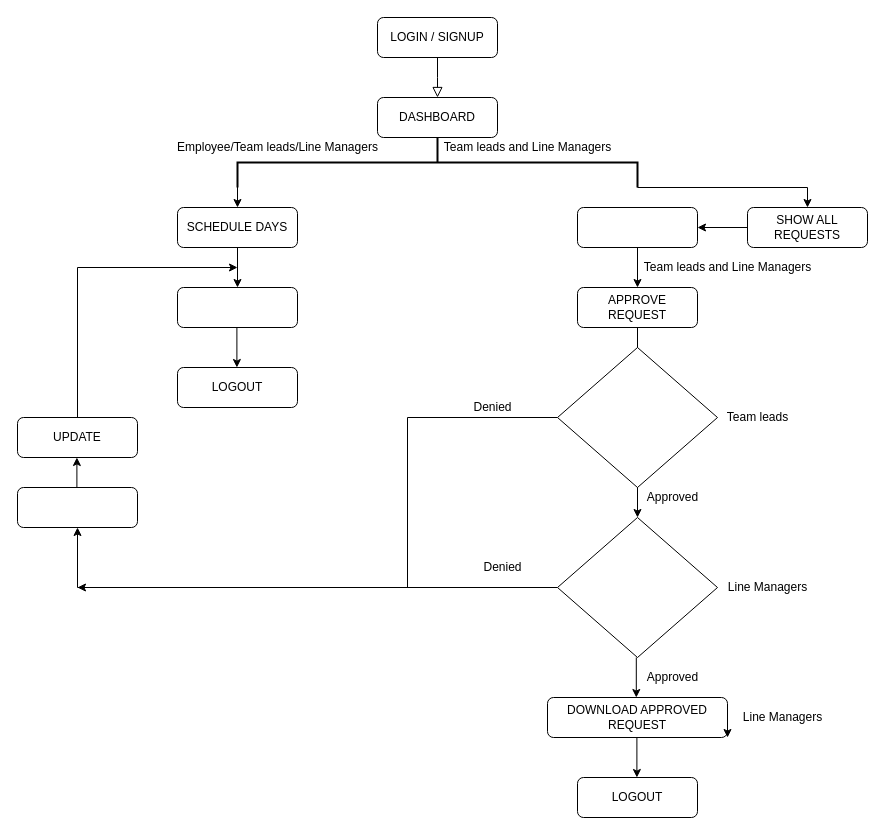
Image size: 885x835. Some labels were removed from this diagram. The centre of each missing label's shape, as x and y in pixels:
RECEIVE RESPONSE: (77,507)
SUBMIT: (237,307)
VIEW REQUEST: (637,227)
WAS THE REQUEST APPROVED (By Line Manager): (637,587)
WAS THE REQUEST APPROVED (By Team Lead): (637,417)
